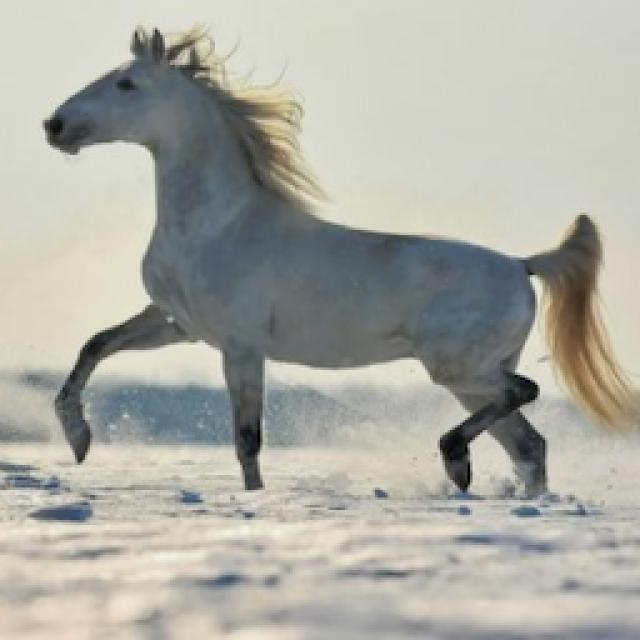Horse: (35, 20, 638, 505)
